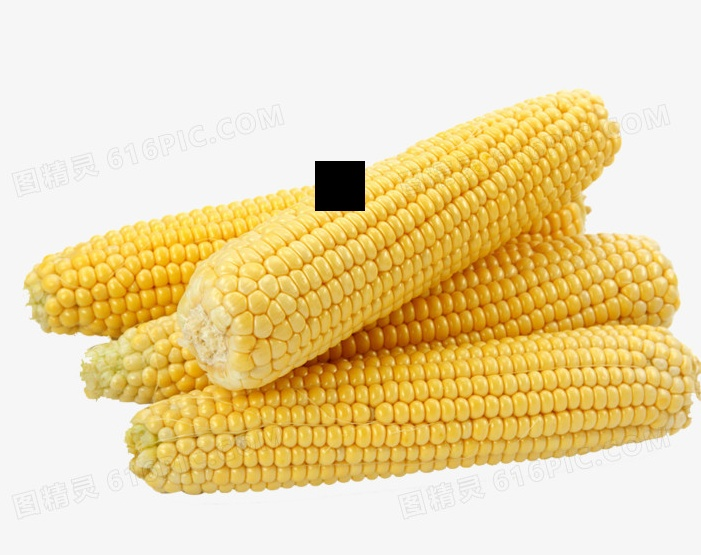corn: (201, 94, 611, 375), (19, 135, 594, 335), (83, 229, 681, 402), (146, 322, 701, 496)
